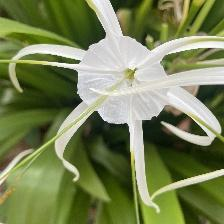spider lily: (73, 25, 198, 141)
